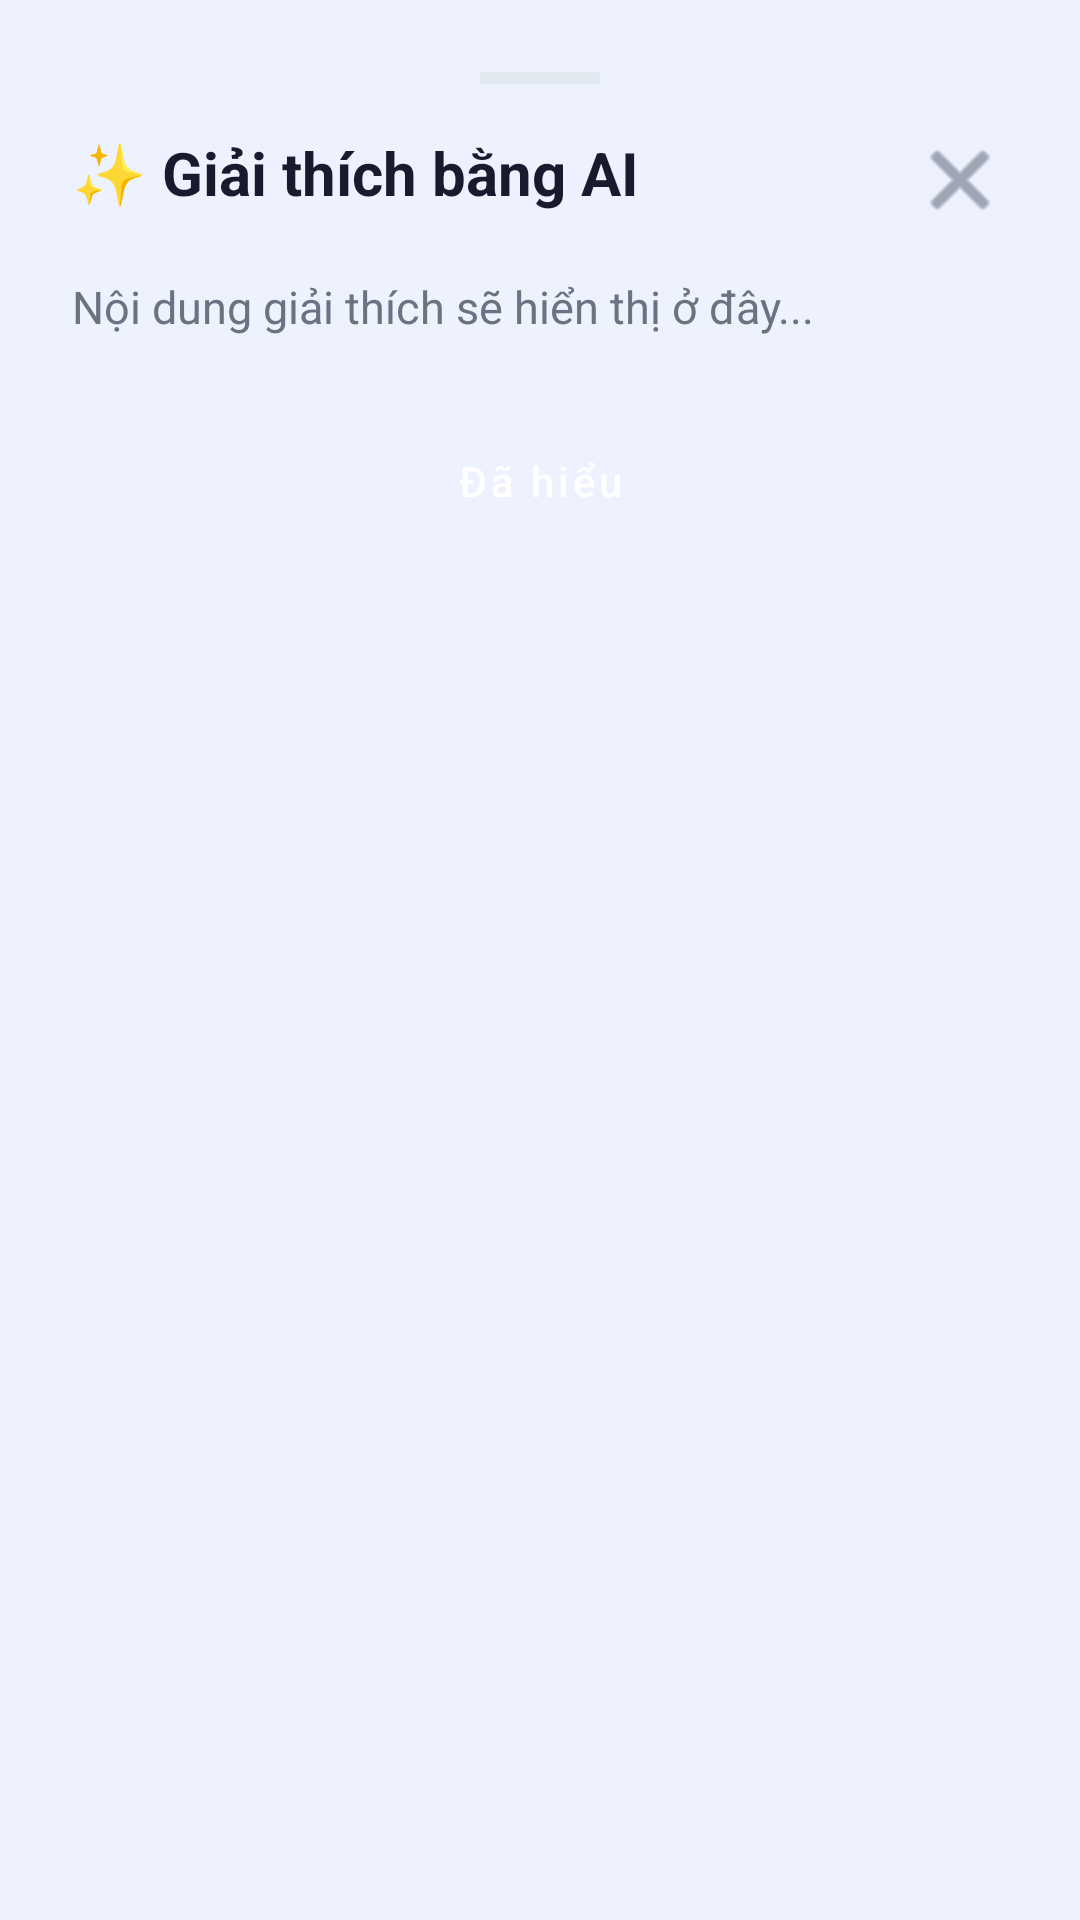

Named icons in this screenshot (1080×1920) and their centers, [x,y]:
close clear cancel: [960,180]
